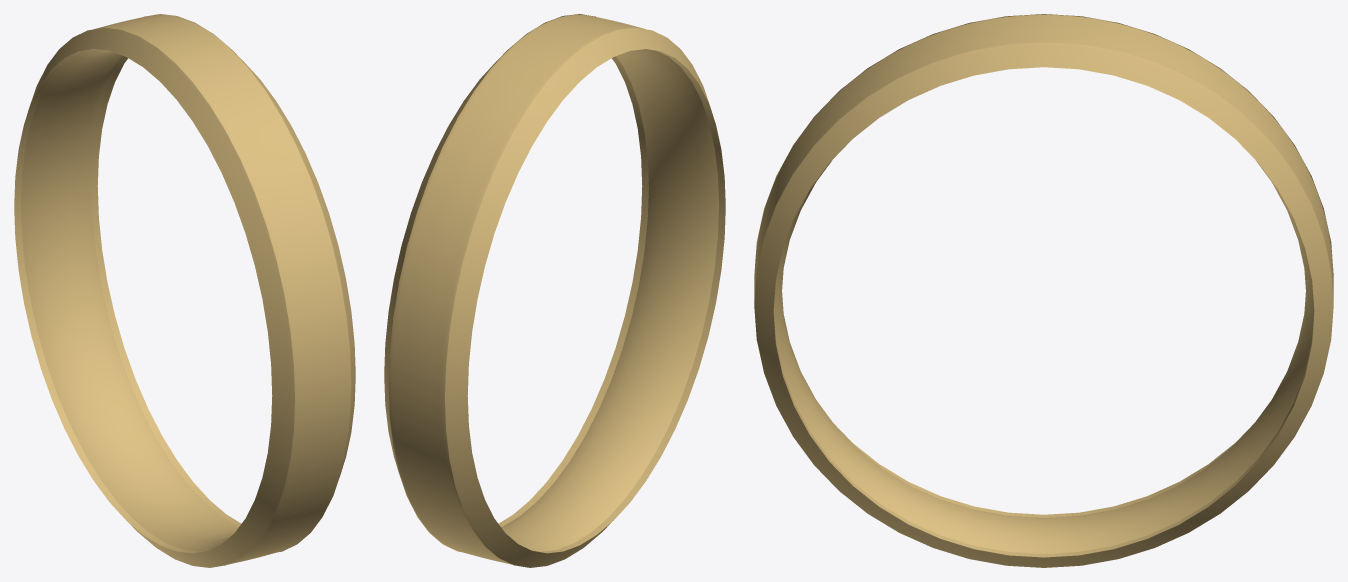
The picture shows the model from 3 angles, left to right: view 1: azimuth 30°, elevation 25°; view 2: azimuth 150°, elevation 25°; view 3: azimuth 270°, elevation 25°; orthographic projection. The views are drawn at different scales.
Parts seen in each view (by area): view 1: P15-Inner, P15-Outer, P15-Sides; view 2: P15-Inner, P15-Outer, P15-Sides; view 3: P15-Sides, P15-Inner, P15-Outer.
Boxes of the visible parts, x1,y1,x2,y2 form: P15-Inner: [21, 49, 238, 551]; P15-Outer: [94, 14, 350, 564]; P15-Sides: [14, 14, 355, 567]; P15-Inner: [501, 49, 718, 551]; P15-Outer: [389, 14, 645, 564]; P15-Sides: [384, 14, 725, 567]; P15-Sides: [754, 14, 1333, 567]; P15-Inner: [773, 161, 1314, 553]; P15-Outer: [754, 14, 1333, 301].
Size of the model in its own units: 0.3877 by 2.22 by 2.22.
